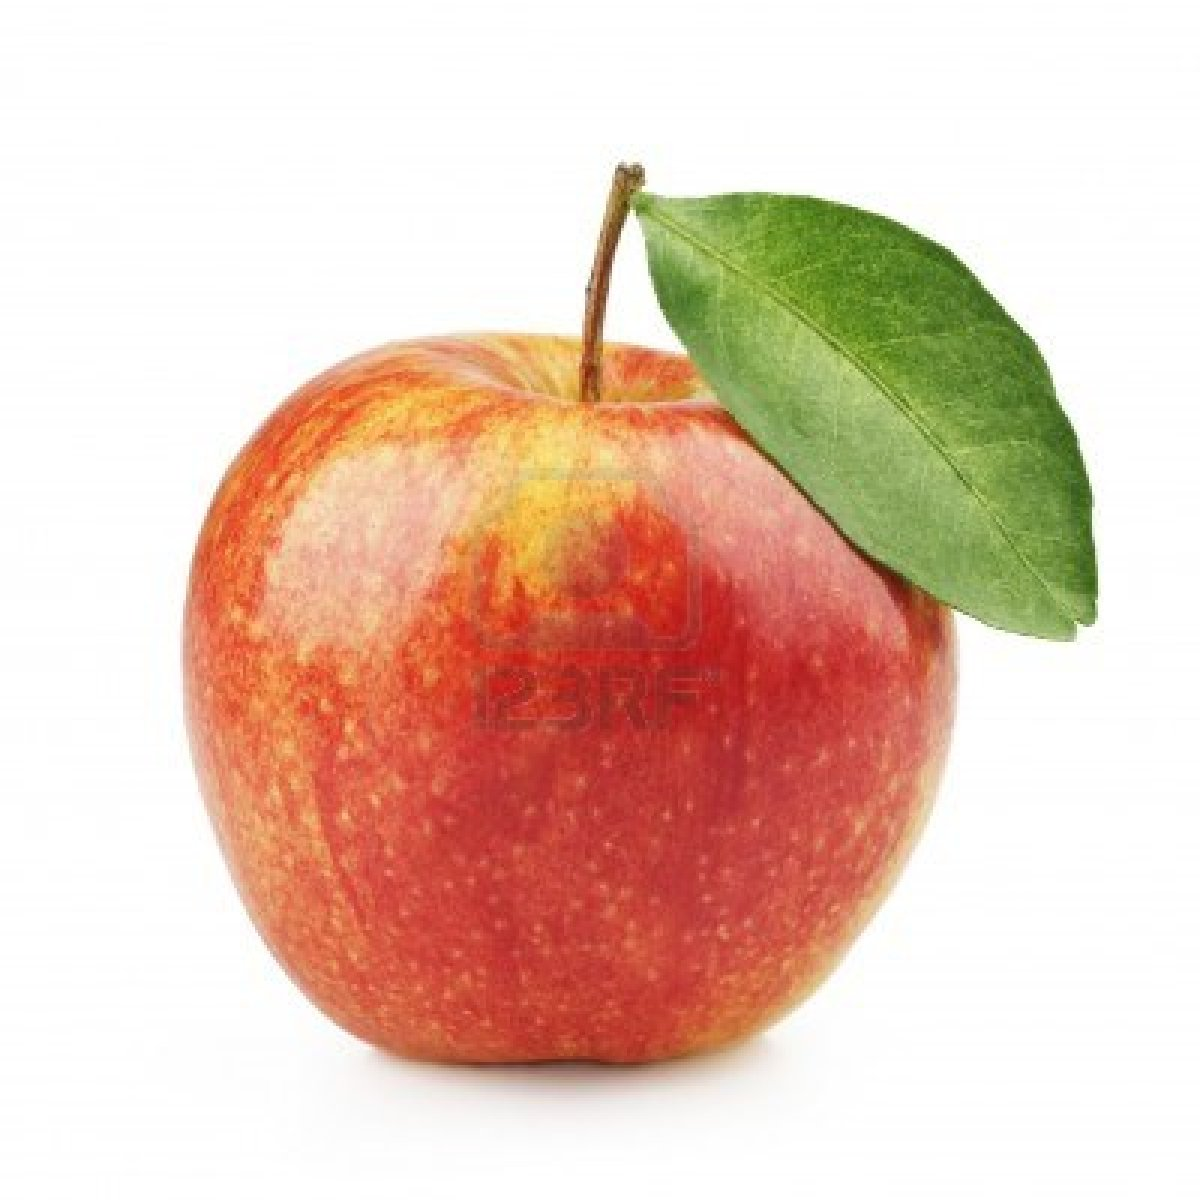apple: (164, 146, 1098, 1079)
